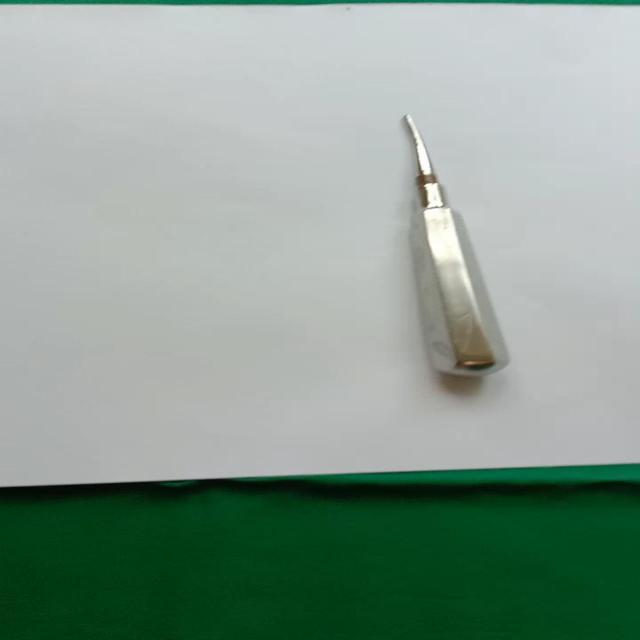Coupland1: (391, 110, 516, 387)
